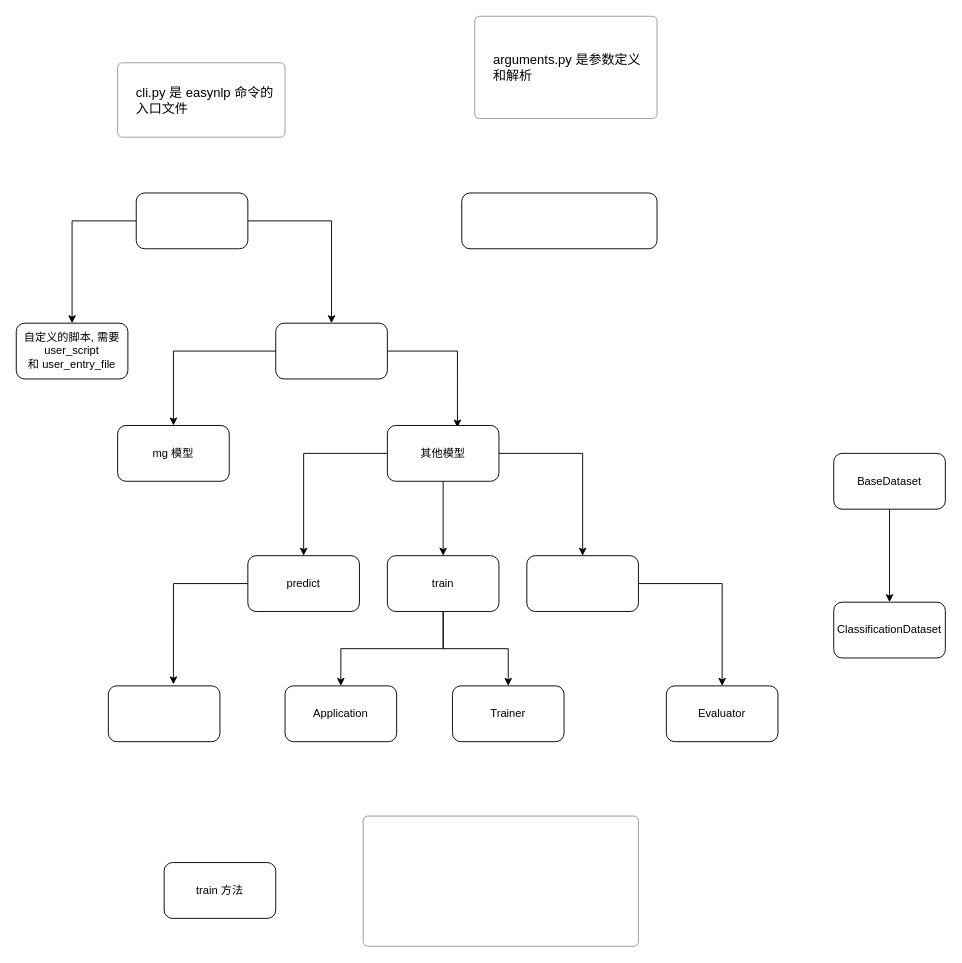
The diagram is 962 pixels wide and 963 high, and some of its shapes have lost their labels. The shapes that lost their labels are listed below. From the top down, each one's box as (x1, y1, x2, y2) in pixels, then its label:
(135, 192, 248, 249): easynlp\cli.py
(461, 192, 657, 249): easynlp\utils\arguments.py
(275, 322, 387, 379): appzoo/api.py
(526, 555, 638, 611): evaluate
(107, 685, 220, 742): Predictor
(362, 815, 638, 946): 训练的过程中有多个钩子函数. before_epoch before_iter after_iter after_epoch after_train
